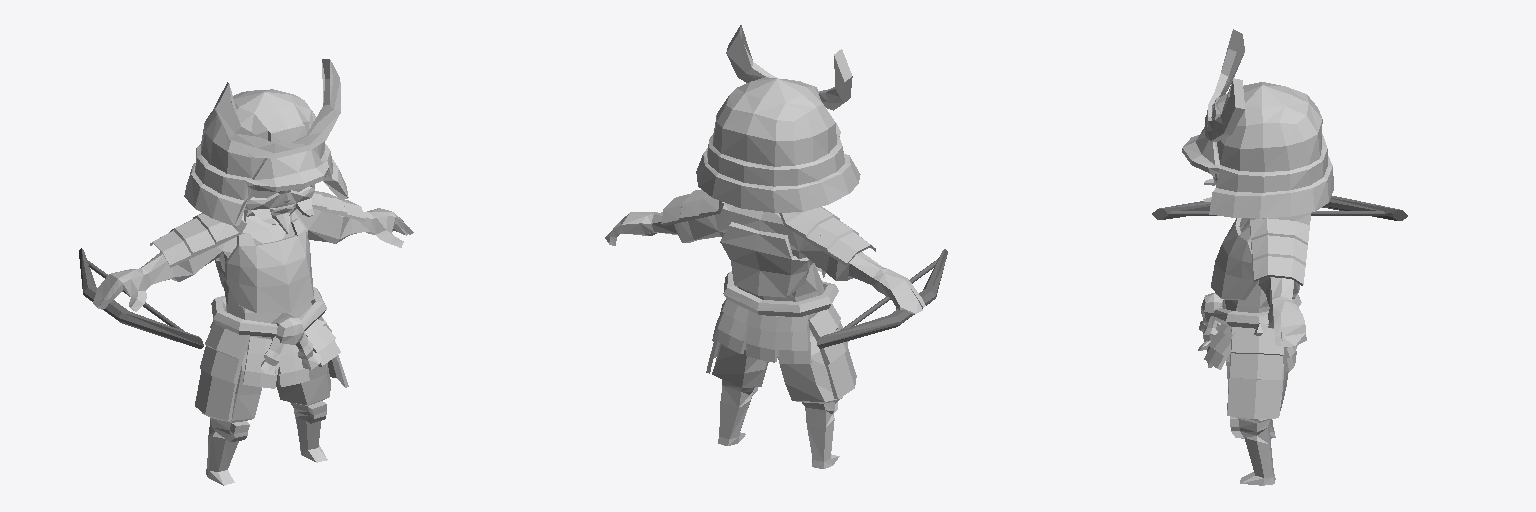
File: Archer_v1.obj
The picture shows the model from 3 angles: view 1: azimuth 30°, elevation 25°; view 2: azimuth 150°, elevation 25°; view 3: azimuth 270°, elevation 25°; orthographic projection.
Visible parts, largest first — view 1: S_Body_Mesh2, polySurface1 pasted__BowMesh; view 2: S_Body_Mesh2, polySurface1 pasted__BowMesh; view 3: S_Body_Mesh2, polySurface1 pasted__BowMesh, pasted__BowMesh polySurface2.
Boxes of the visible parts, x1,y1,x2,y2 form: S_Body_Mesh2: [93, 59, 413, 485]; polySurface1 pasted__BowMesh: [79, 248, 203, 348]; S_Body_Mesh2: [605, 25, 925, 468]; polySurface1 pasted__BowMesh: [817, 249, 947, 348]; S_Body_Mesh2: [1182, 29, 1333, 485]; polySurface1 pasted__BowMesh: [1152, 196, 1407, 220]; pasted__BowMesh polySurface2: [1167, 211, 1386, 215].
Bounding box in the file's own units: 7.86 × 9.68 × 5.58.